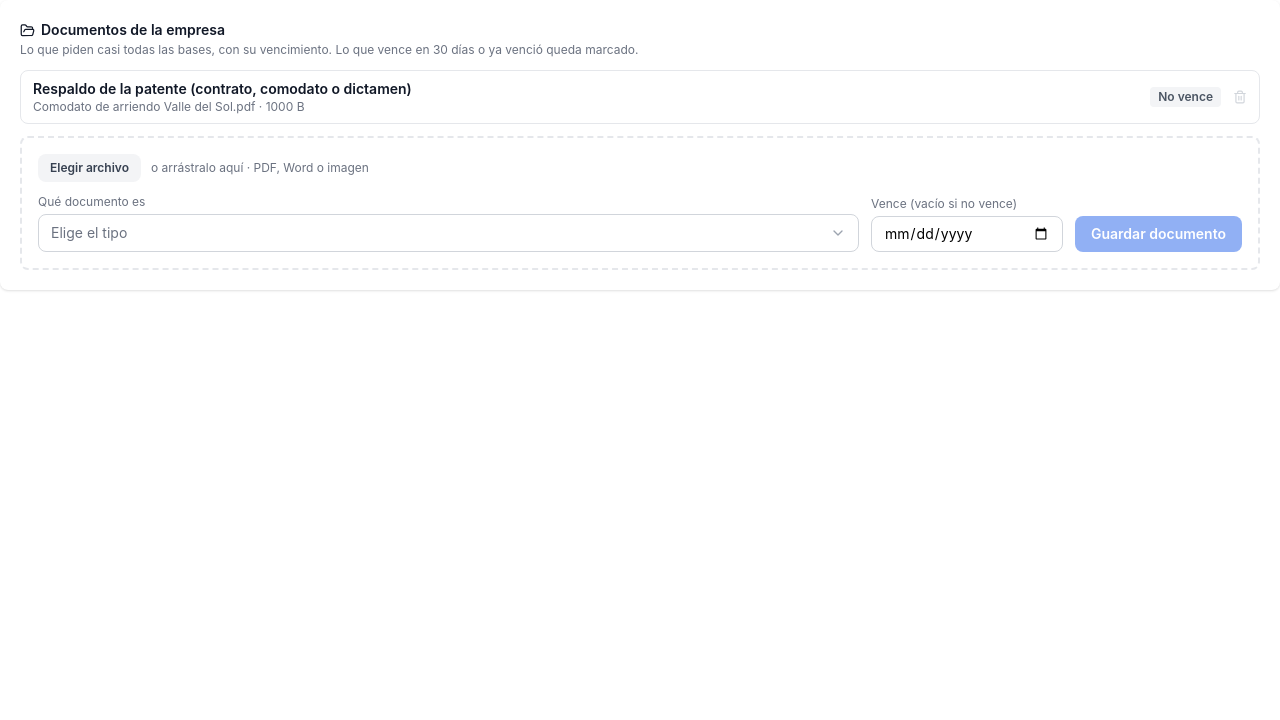
Scenario: Respaldo de la patente › es un tipo de la carpeta y avisa que va siempre junto a la patente
Expected: the text "Respaldo de la patente (contrato, comodato o dictamen)" is shown, 33,80 -> 412,97
Expected: the text "junto a la patente" is not shown
Click the button "Elige el tipo". click: x=89, y=232
box: 38,214 -> 859,252
(page scrolled)
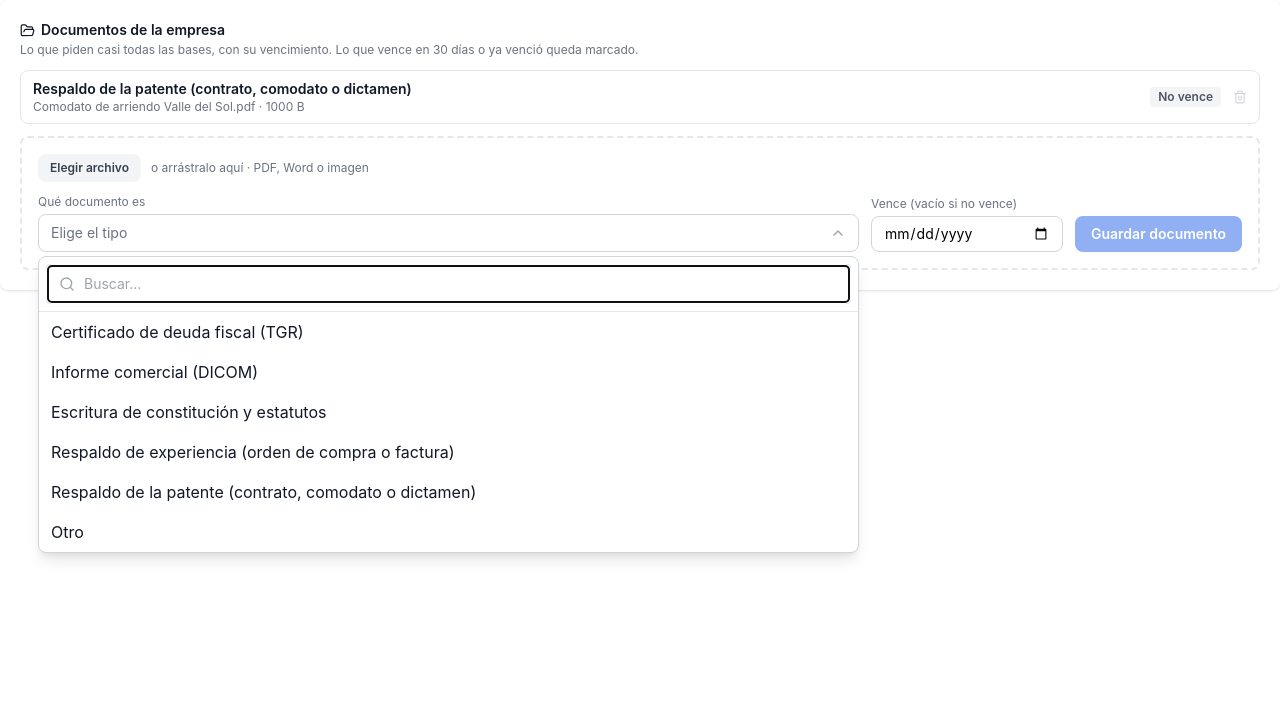
Click the button "Respaldo de la patente (contrato, comodato o dictamen)". click: x=448, y=492
box: 39,472 -> 858,512
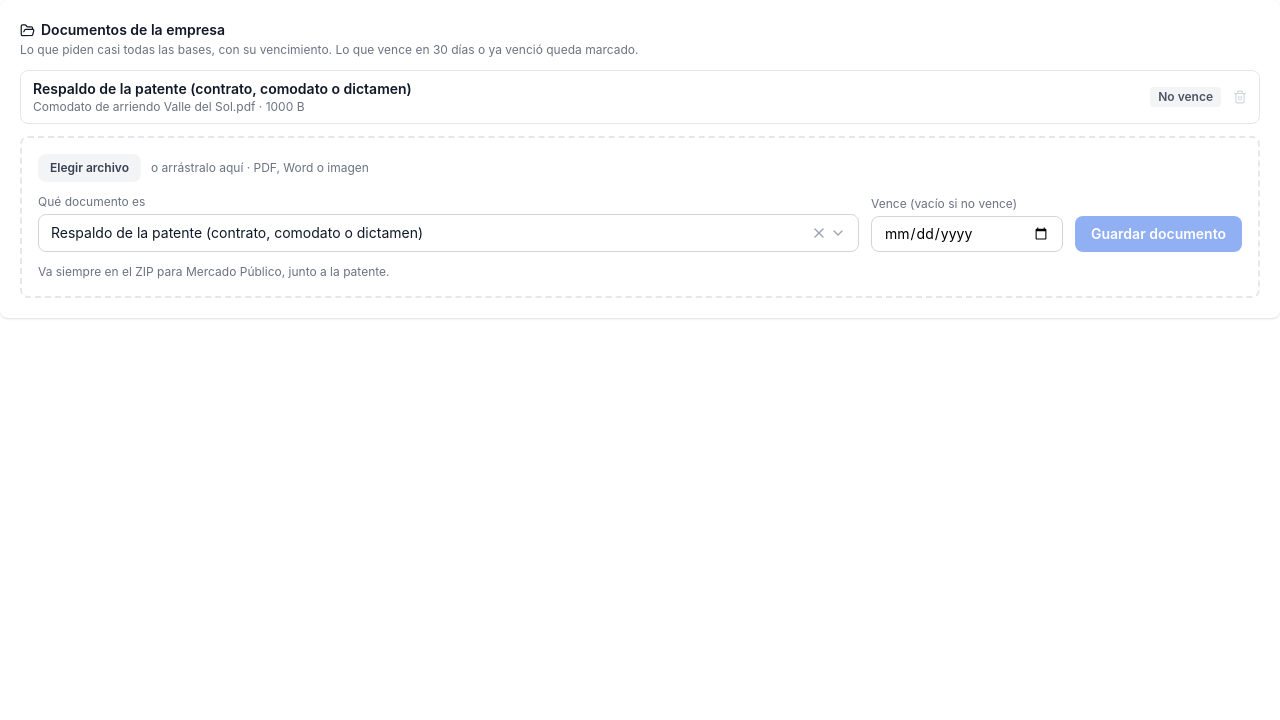
Expected: the text "Va siempre en el ZIP para Mercado Público, junto a la patente." is shown, 38,264 -> 390,279
